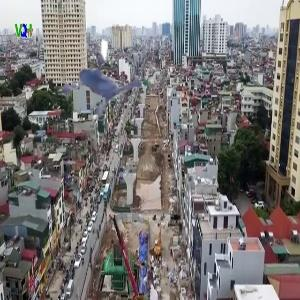drone: (43, 5, 170, 132)
